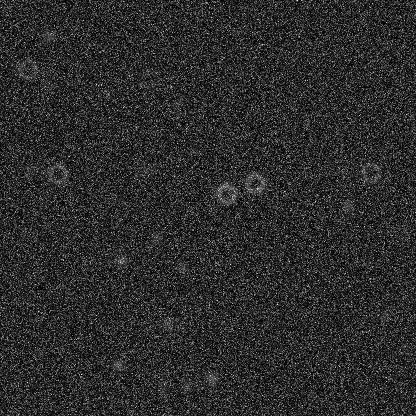Ring: (214, 181, 238, 205), (45, 162, 69, 186), (359, 160, 383, 184), (15, 57, 39, 81), (242, 170, 266, 194), (136, 66, 160, 90)
Spot: (208, 182, 224, 198), (178, 377, 194, 393), (40, 77, 56, 93), (113, 252, 129, 268), (169, 96, 185, 112), (23, 160, 39, 176), (159, 315, 175, 331), (109, 356, 125, 372), (336, 210, 352, 226), (148, 231, 164, 247), (41, 27, 57, 43), (155, 378, 171, 394), (339, 197, 355, 213), (203, 370, 219, 386), (175, 259, 191, 275), (138, 162, 154, 178), (170, 111, 186, 127), (375, 307, 391, 323)
